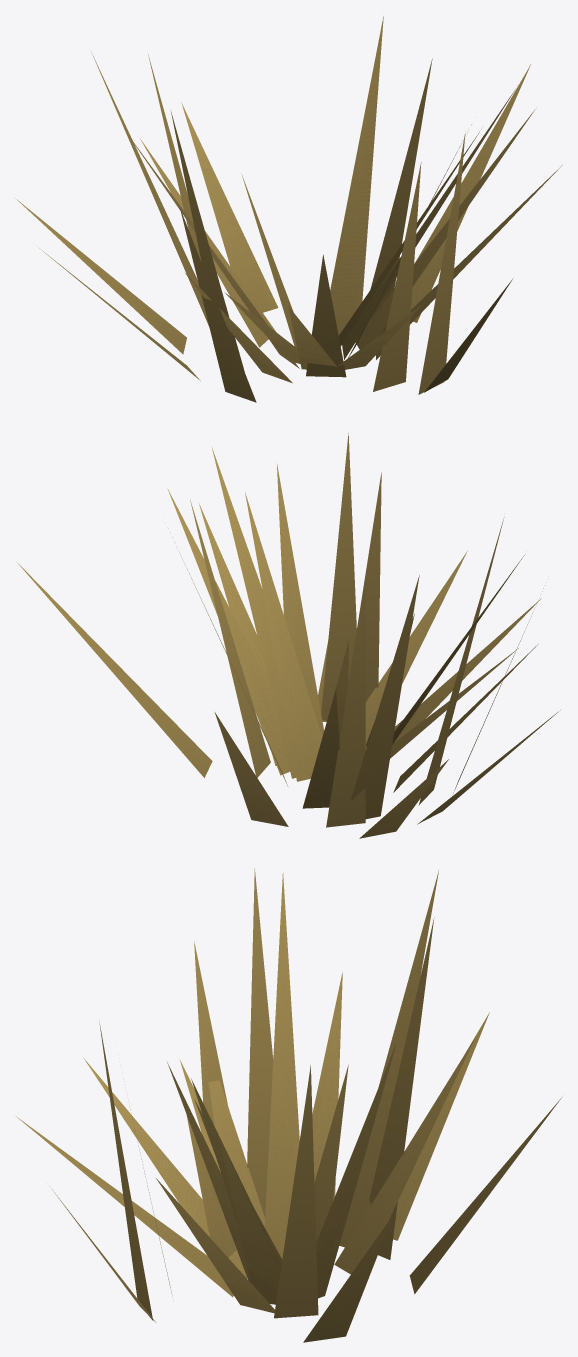
File: desert_grass.glb
3 views of the same model, one above another, from view 1: azimuth 30°, elevation 25°; view 2: azimuth 150°, elevation 25°; view 3: azimuth 270°, elevation 25° (orthographic). The views are drawn at different scales.
Visible parts, largest first — view 1: D_Grass__D_straw; view 2: D_Grass__D_straw; view 3: D_Grass__D_straw.
Boxes of the visible parts, x1,y1,x2,y2 form: D_Grass__D_straw: (15,16,562,402); D_Grass__D_straw: (17,433,560,838); D_Grass__D_straw: (16,868,561,1342).
Bounding box in the file's own units: 0.8294 × 0.4497 × 0.6801.
